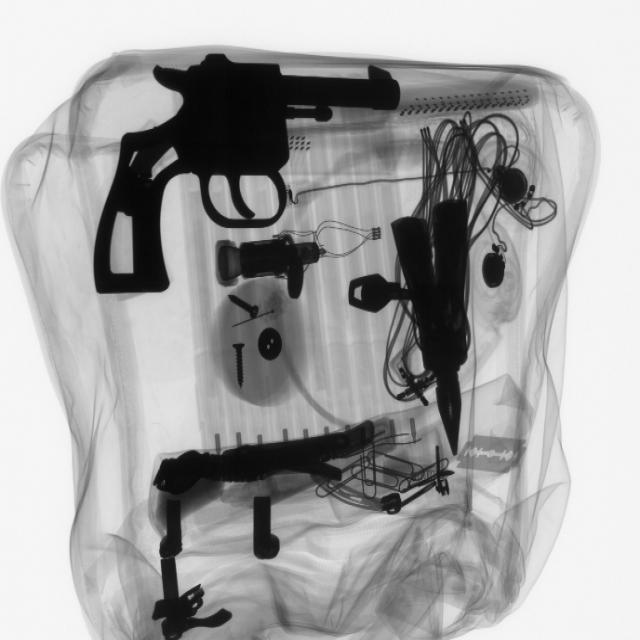BLADE: (454, 431, 532, 477)
GUN: (85, 59, 403, 301)
SCREW: (225, 335, 255, 392), (221, 287, 267, 324)
